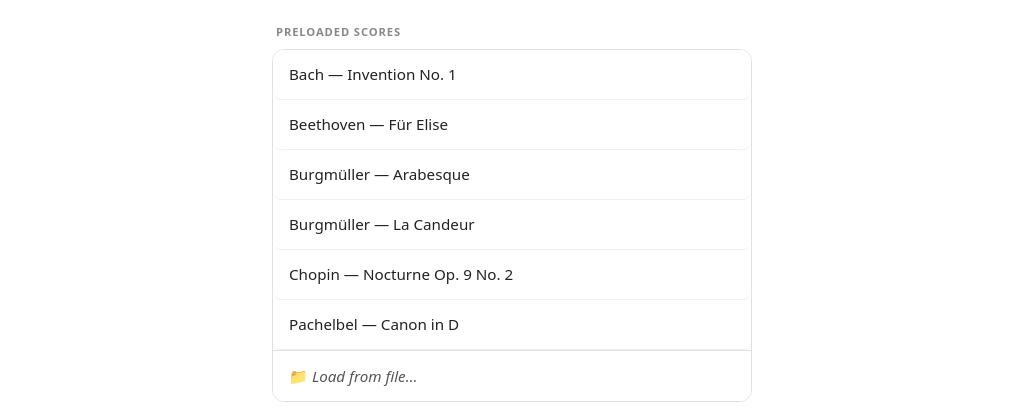
Test case: PlayScorePlugin — US1: Selection screen and Back button › shows loading indicator when status === "loading"
Navigate to player view first
What coordinates should you click on to do the following:
click the button "Bach — Invention No. 1"
I would click on:
 (373, 74)
Its box is [273,50,751,100].
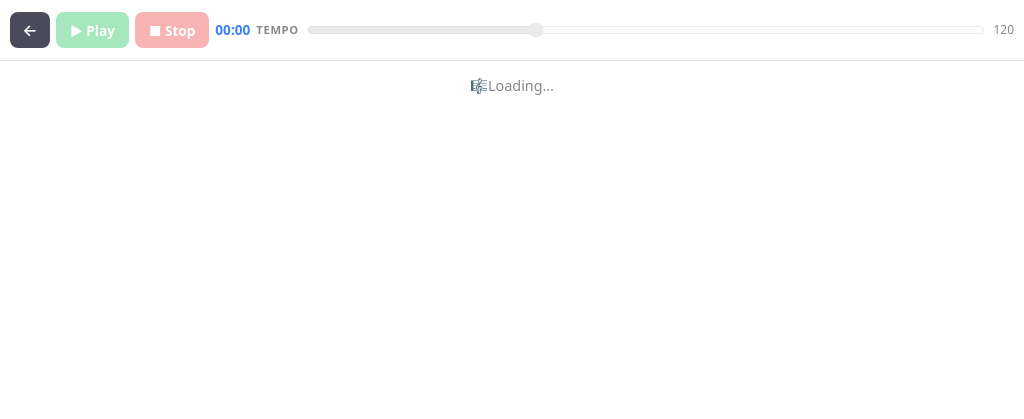
Expected: the text "Loading…" is shown, [488,75,554,97]
